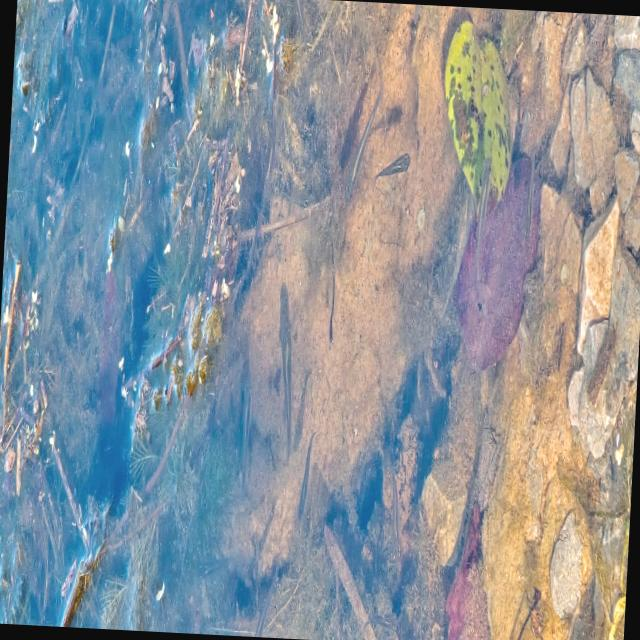Sivrisinek Baligi: (265, 284, 301, 472), (340, 88, 380, 208), (368, 144, 414, 197), (294, 433, 314, 522)
